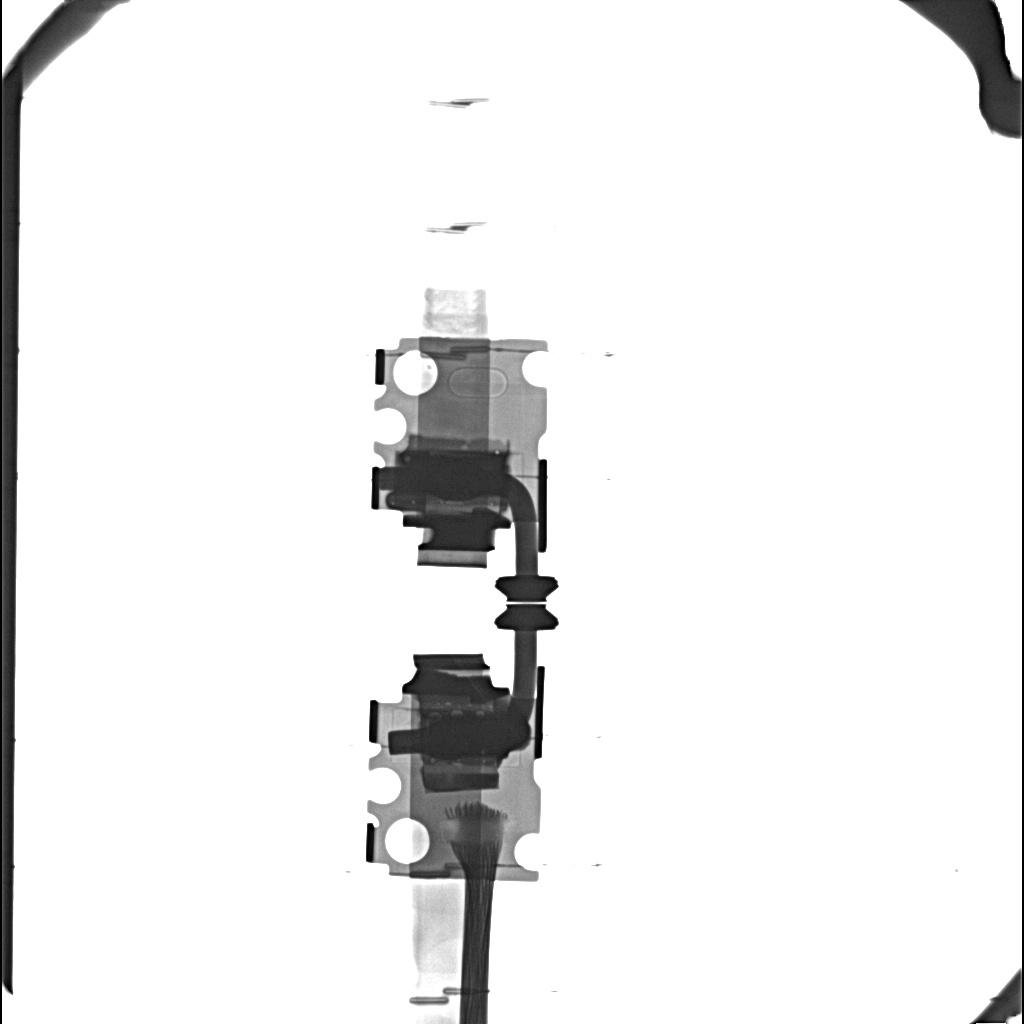defect: (425, 711, 529, 757), (400, 453, 505, 494), (421, 757, 502, 792)
